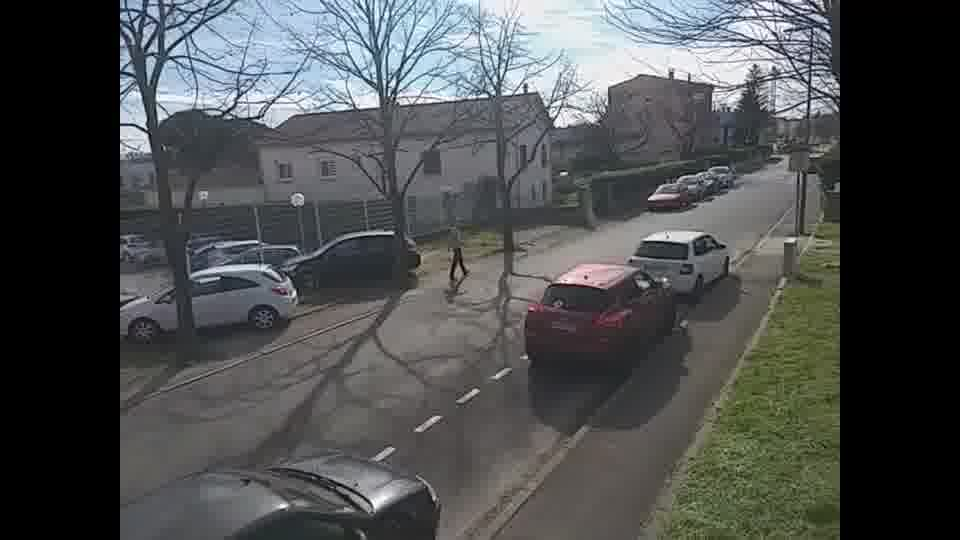jugador: (443, 210, 474, 287)
